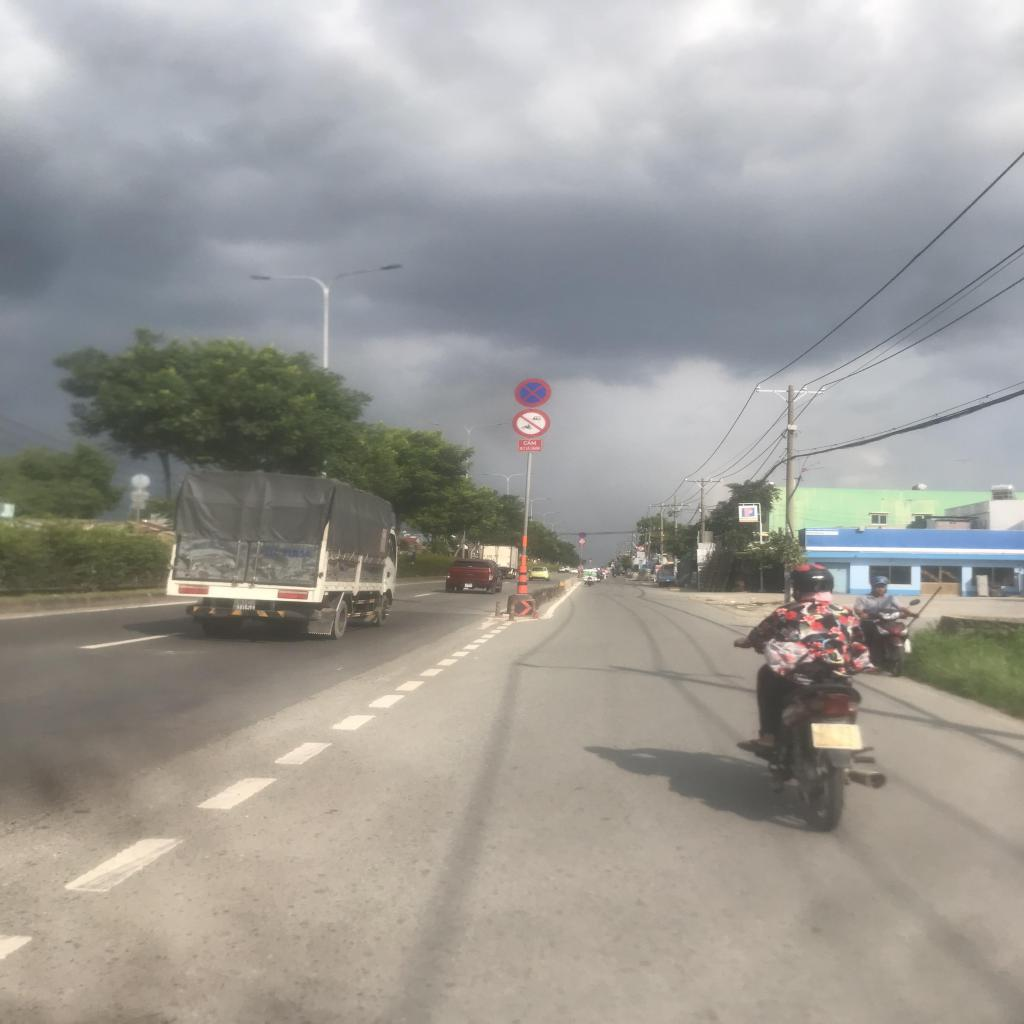cam_dung_xe_va_do_xe: (515, 379, 551, 408), (579, 532, 586, 538)
cam_o_to_tai_va_xe_khach: (637, 545, 645, 551)
cam_xe_2_banh_va_xe_3_banh_co_dong_co: (512, 408, 550, 438), (578, 538, 586, 544)
khac: (634, 558, 646, 564), (636, 552, 644, 557)
